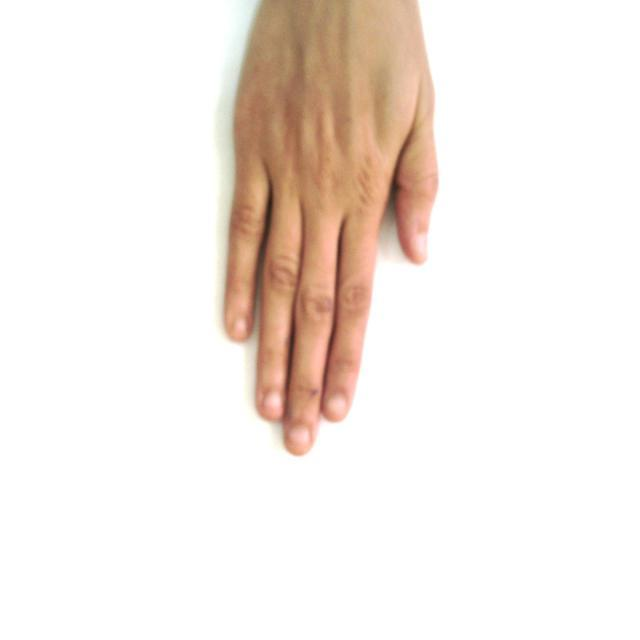Fingernail: (289, 427, 310, 449), (326, 397, 346, 418), (265, 394, 282, 416), (231, 319, 246, 338), (418, 232, 428, 258)
